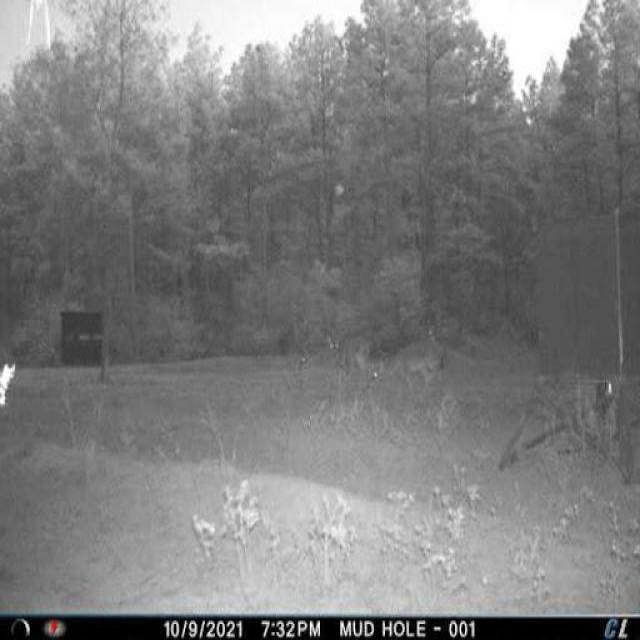deer: (370, 337, 454, 412), (318, 323, 377, 405)
